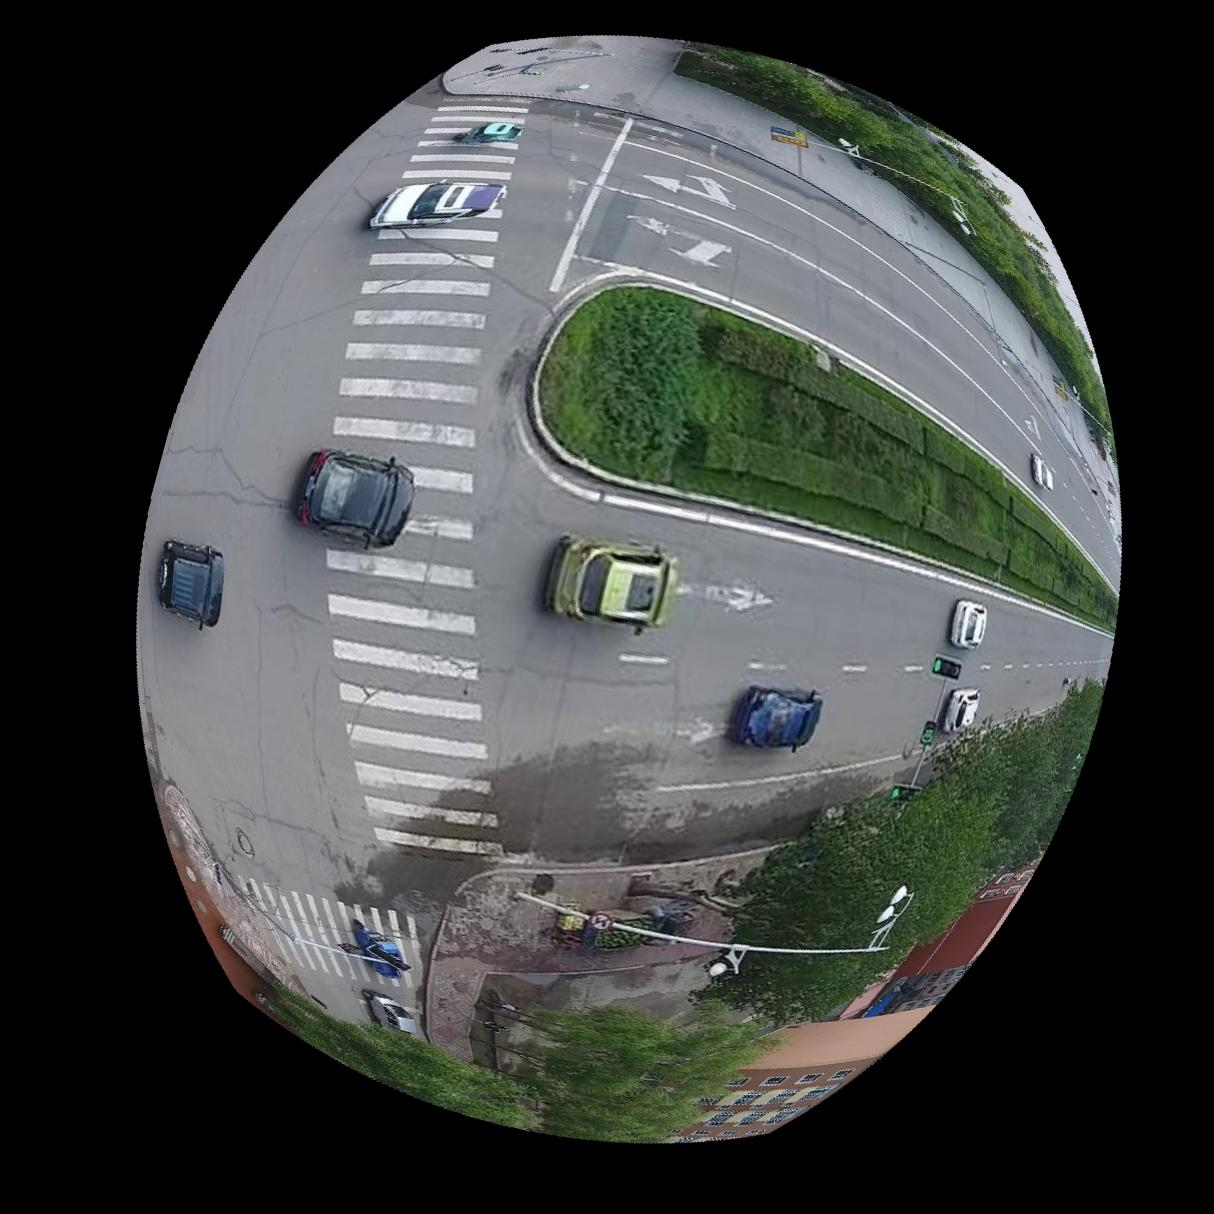cars: (545, 536, 678, 634), (295, 449, 412, 548), (367, 179, 504, 228), (730, 686, 822, 753), (156, 540, 220, 628), (949, 599, 987, 651), (941, 688, 978, 734)
trees: (536, 286, 1116, 630), (629, 684, 1102, 1026), (266, 994, 768, 1145)
